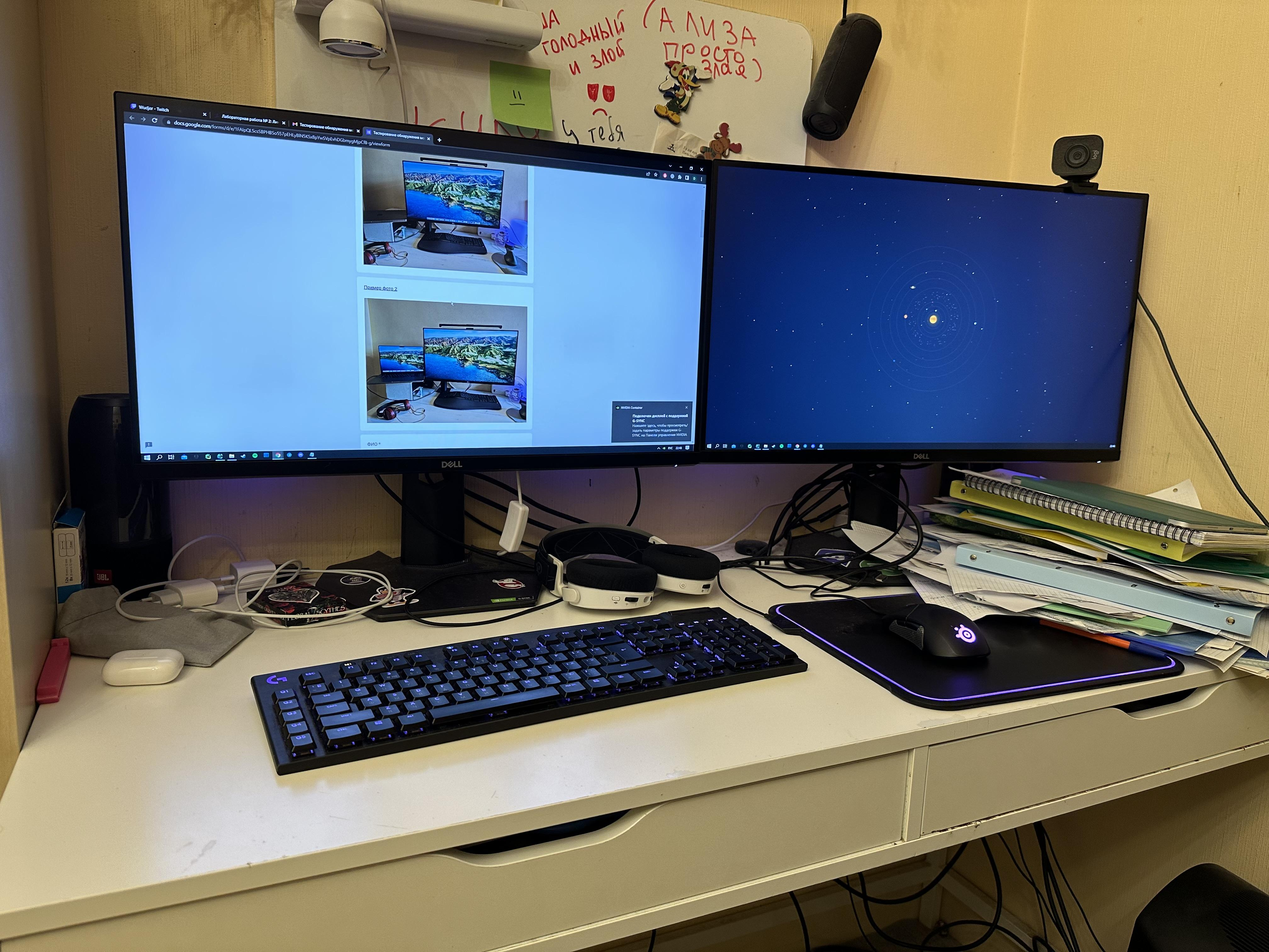monitor: (107, 83, 718, 483), (663, 145, 1153, 471)
